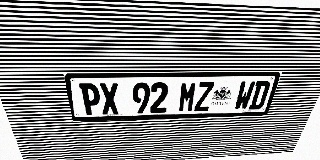2: (150, 82, 168, 113)
9: (132, 82, 150, 114)
D: (248, 81, 271, 110)
M: (178, 82, 198, 112)
P: (79, 83, 102, 115)
W: (233, 81, 256, 110)
X: (99, 83, 120, 115)
Z: (194, 82, 215, 111)
